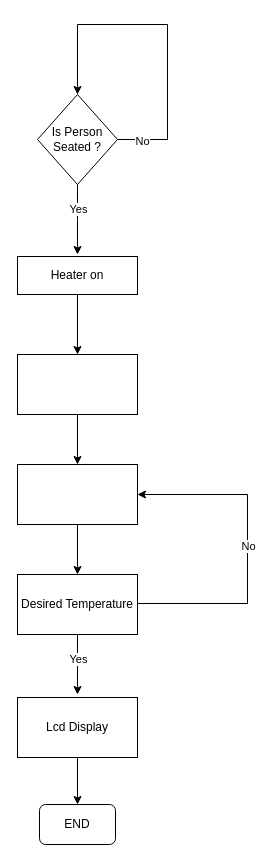
Image size: 273x862. Some labels were removed from this diagram. The centre of each missing label's shape, as x and y in pixels:
Change Temperature as used defined: the point at 77,494
Temperature Request: the point at 77,384
